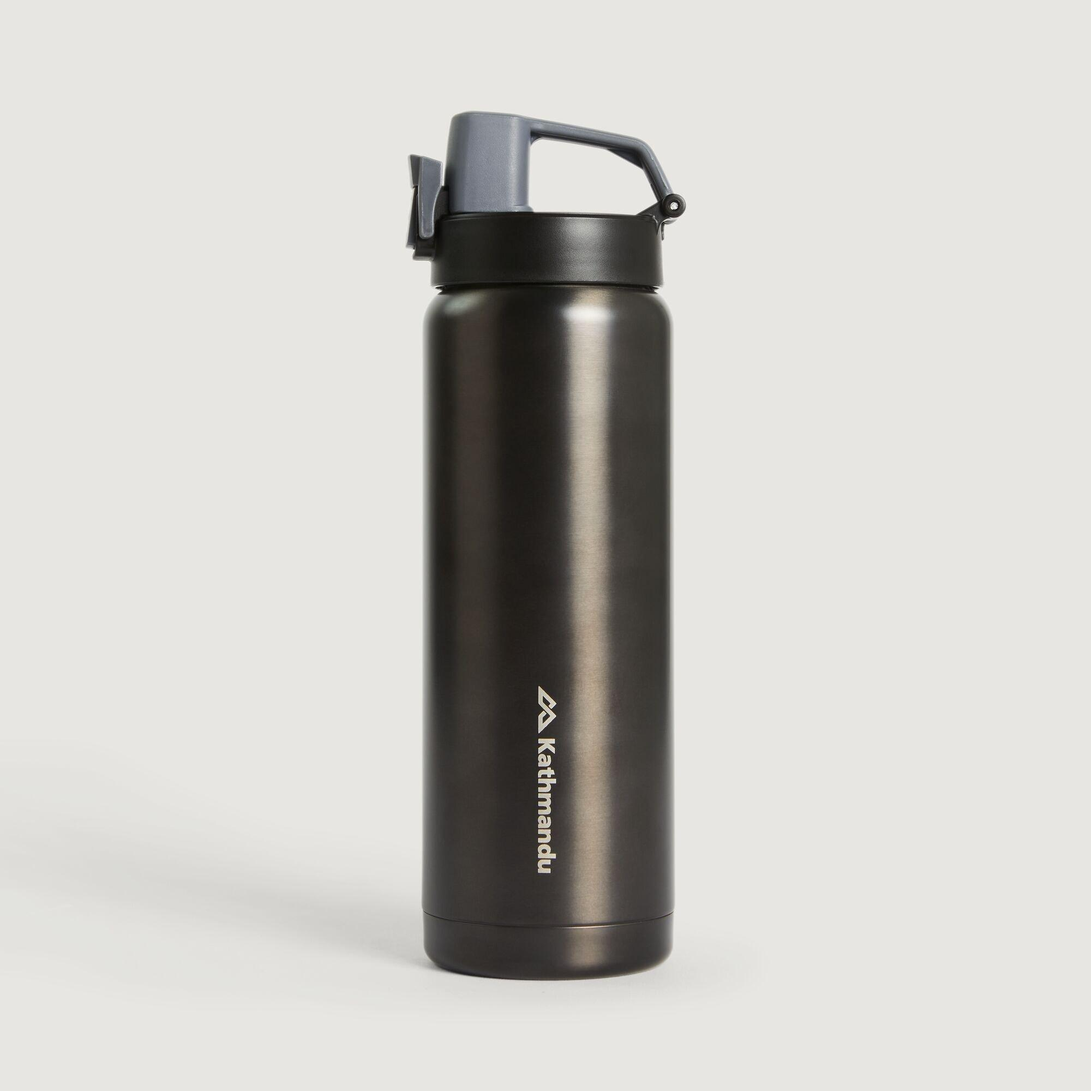gym bottle: (412, 105, 690, 981)
